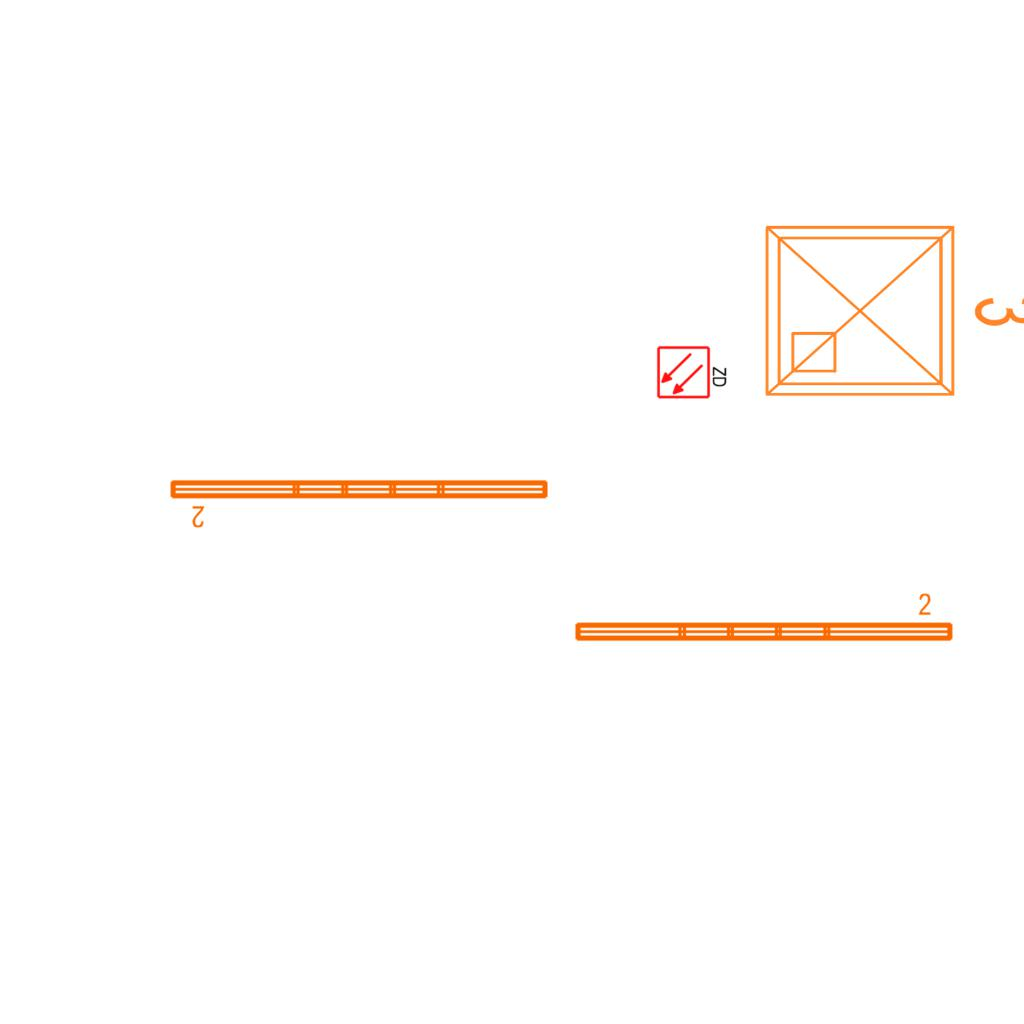Ambulanz_Pendelleuchte_LED: (166, 474, 553, 530), (570, 591, 957, 647)
Einbaudownlights_LED_Konferenzraeume: (751, 203, 1024, 411)
ZD_Melder_in_Zwischendecke_mit_Revisionsoeffnung_mind_40_x_40_cm: (656, 343, 730, 400)
